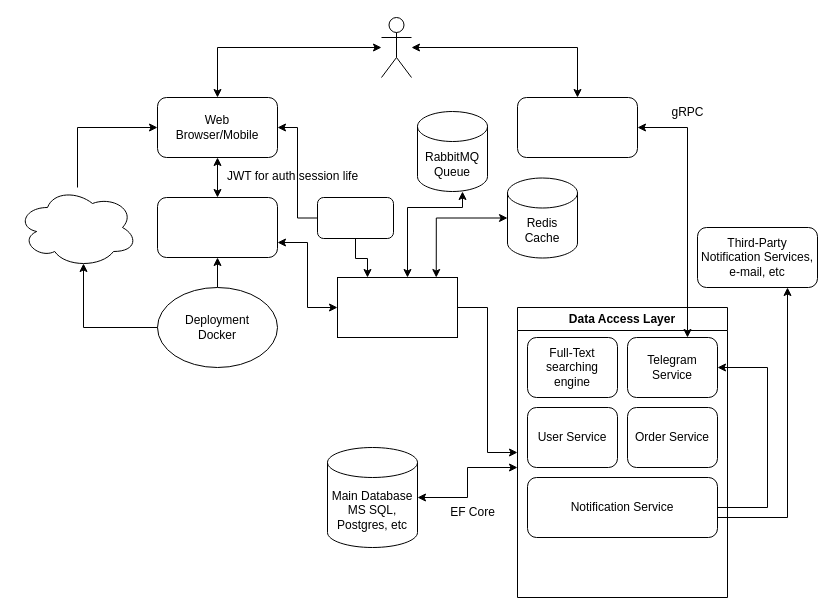
The diagram is 835 pixels wide and 615 high, and some of its shapes have lost their labels. The centre of each missing label's shape, as x and y in pixels:
Back-End API C#: point (397, 307)
CDN: point (77, 227)
Front-End React and static content: point (217, 227)
Swagger 4 Dev: point (355, 217)
Telegram: point (577, 127)
User: point (396, 47)
